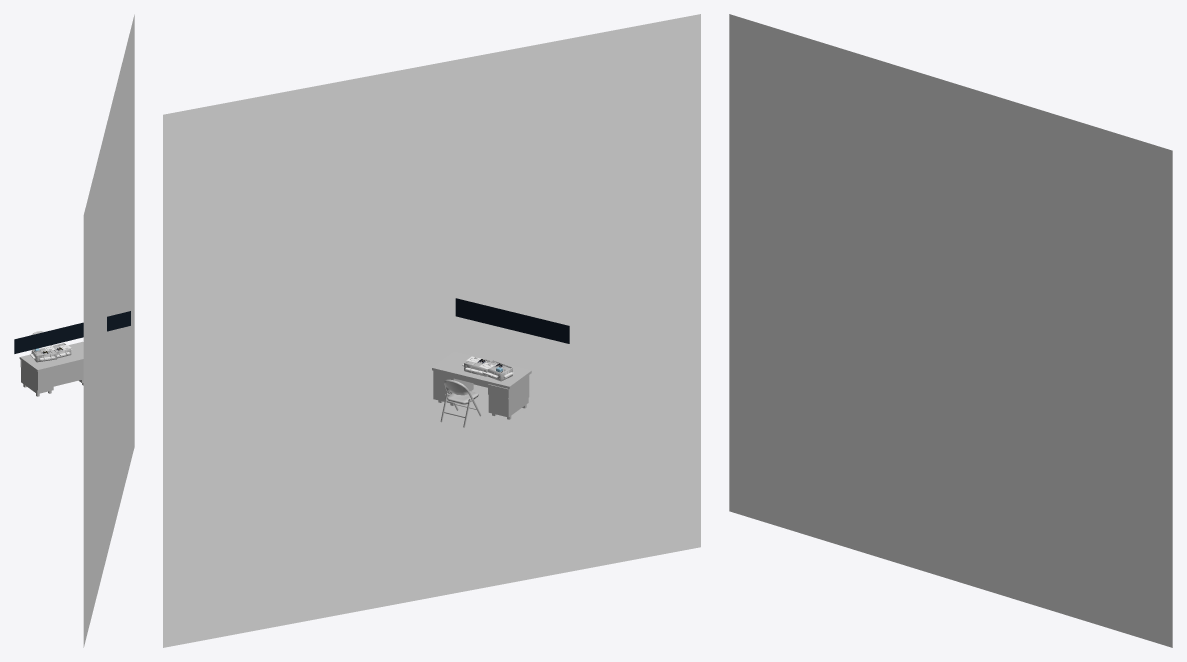
File: ControlsTutorialScreen.fbx
The picture shows the model from 3 angles, left to right: view 1: azimuth 30°, elevation 25°; view 2: azimuth 150°, elevation 25°; view 3: azimuth 270°, elevation 25°; orthographic projection. The views are drawn at different scales.
Parts seen in each view (by area): view 1: Ping, Entire, Backing; view 2: Ping, Entire, Backing; view 3: Ping.
Boxes of the visible parts, x1=… form: Ping: x1=83, y1=14, x2=134, y2=647; Entire: x1=19, y1=341, x2=83, y2=396; Backing: x1=14, y1=311, x2=130, y2=353; Ping: x1=163, y1=14, x2=700, y2=647; Entire: x1=432, y1=352, x2=531, y2=419; Backing: x1=455, y1=298, x2=569, y2=343; Ping: x1=729, y1=14, x2=1172, y2=647.
Bounding box in the file's own units: 6.57 × 11.15 × 9.01.
